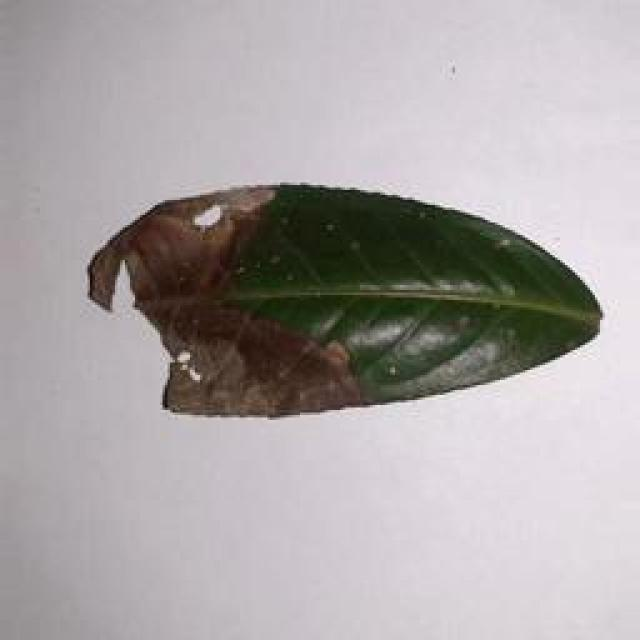Brown Blight: (56, 176, 615, 428)
